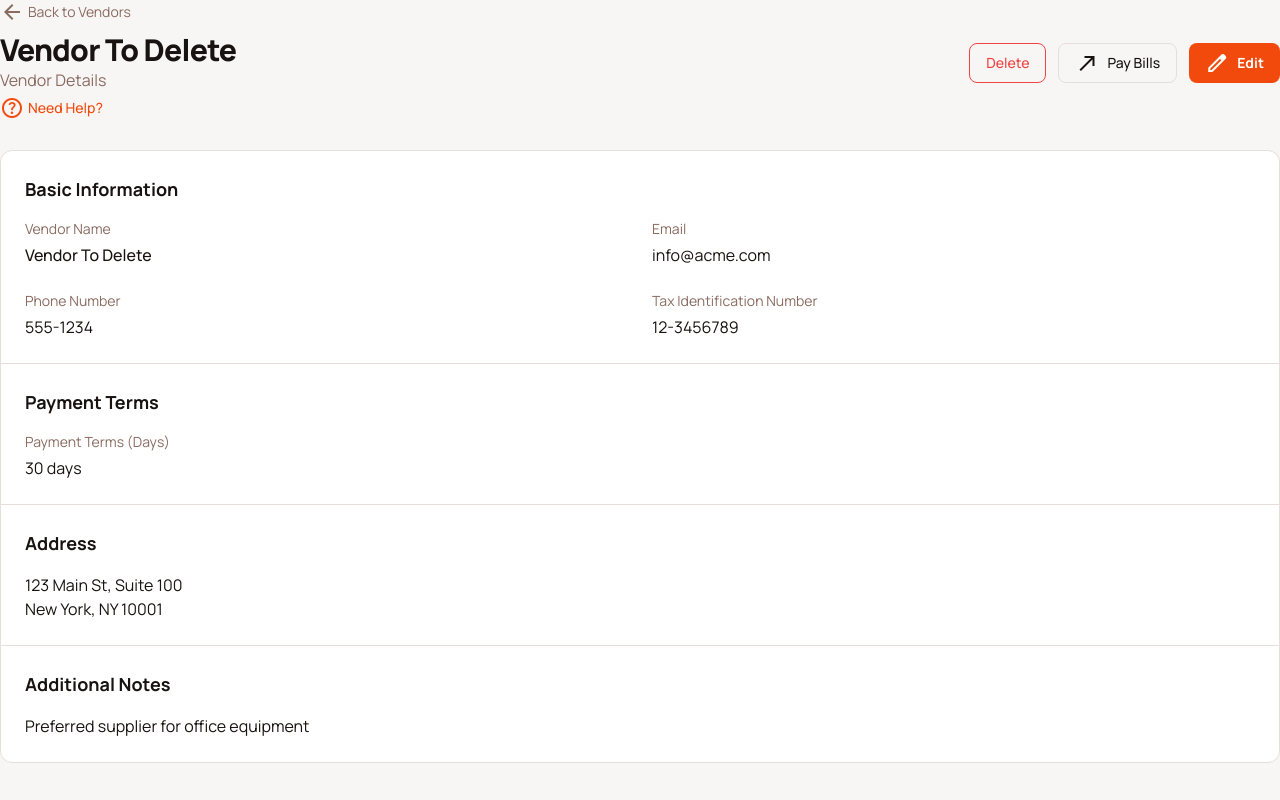
Test: VendorDetailPage › delete functionality › displays vendor name in delete confirmation modal
Step 1. Click the button with test id "vendor-detail-delete" → (1008, 63), box 969,43 -> 1046,83
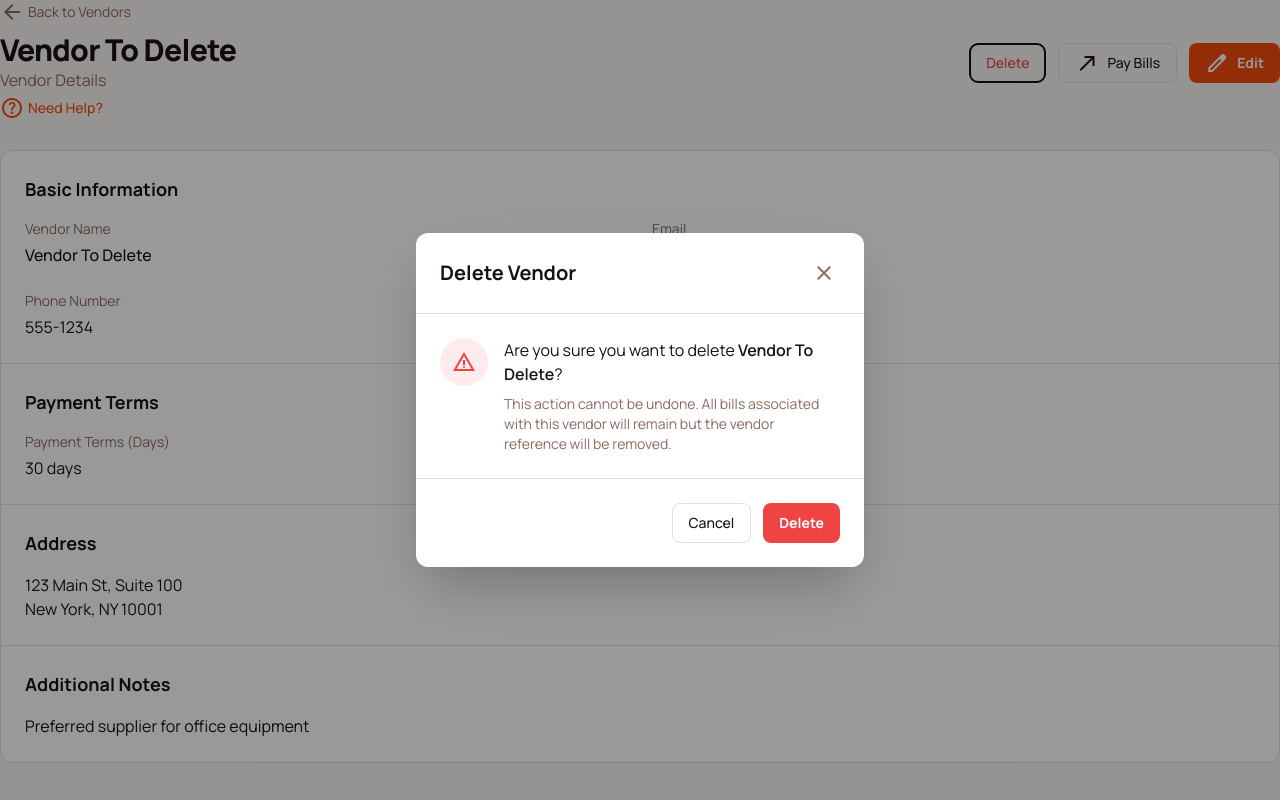
Expected: the element with test id "delete-confirmation-modal" shows "Vendor To Delete", 504,339 -> 813,385
